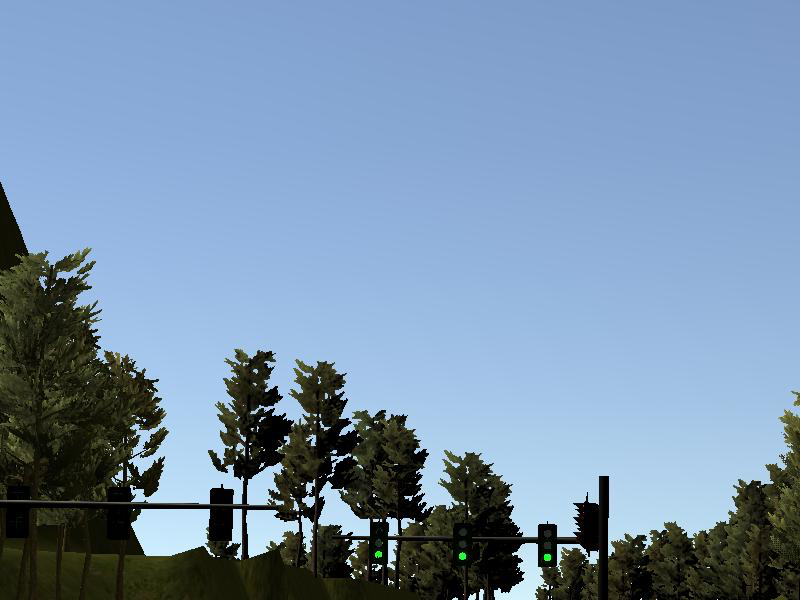green: (452, 524, 472, 566), (538, 524, 557, 567), (369, 524, 388, 563)
